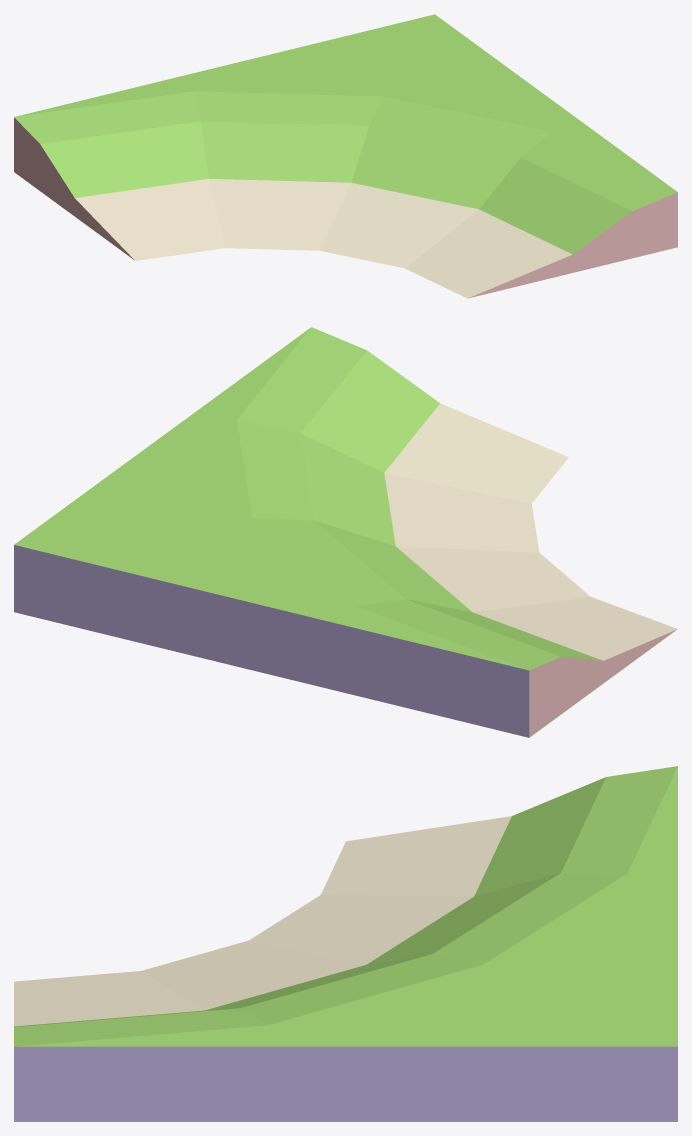
File: Path_Terrain_Basic_Curve_Inner_2x2.glb
The picture shows the model from 3 angles, top to bottom: view 1: azimuth 30°, elevation 25°; view 2: azimuth 150°, elevation 25°; view 3: azimuth 270°, elevation 25°; orthographic projection. The views are drawn at different scales.
Visible parts, largest first — view 1: Path_Terrain_Basic_Curve_Inner_2x2; view 2: Path_Terrain_Basic_Curve_Inner_2x2; view 3: Path_Terrain_Basic_Curve_Inner_2x2.
Part boxes in pixels (x1=…): Path_Terrain_Basic_Curve_Inner_2x2: x1=14, y1=14, x2=677, y2=298; Path_Terrain_Basic_Curve_Inner_2x2: x1=14, y1=327, x2=677, y2=737; Path_Terrain_Basic_Curve_Inner_2x2: x1=14, y1=766, x2=677, y2=1121.
Bounding box in the file's own units: 200 × 25 × 200.
